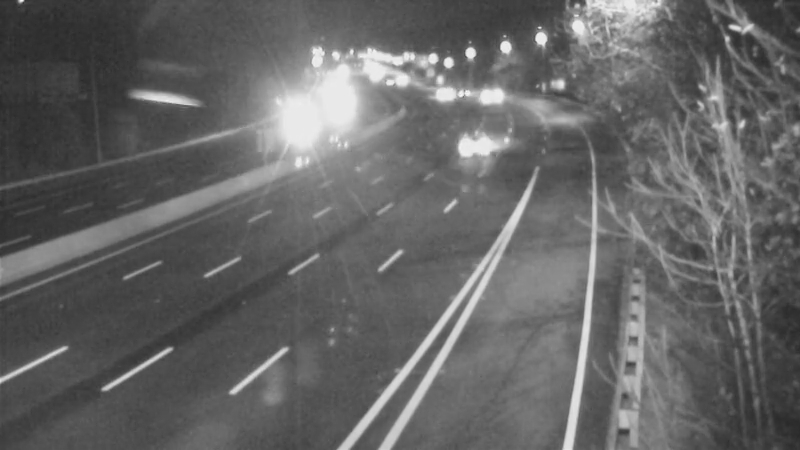vehicle: (373, 57, 423, 107), (414, 70, 464, 120), (443, 65, 493, 115), (465, 72, 515, 122), (455, 121, 505, 171), (271, 96, 321, 146)
